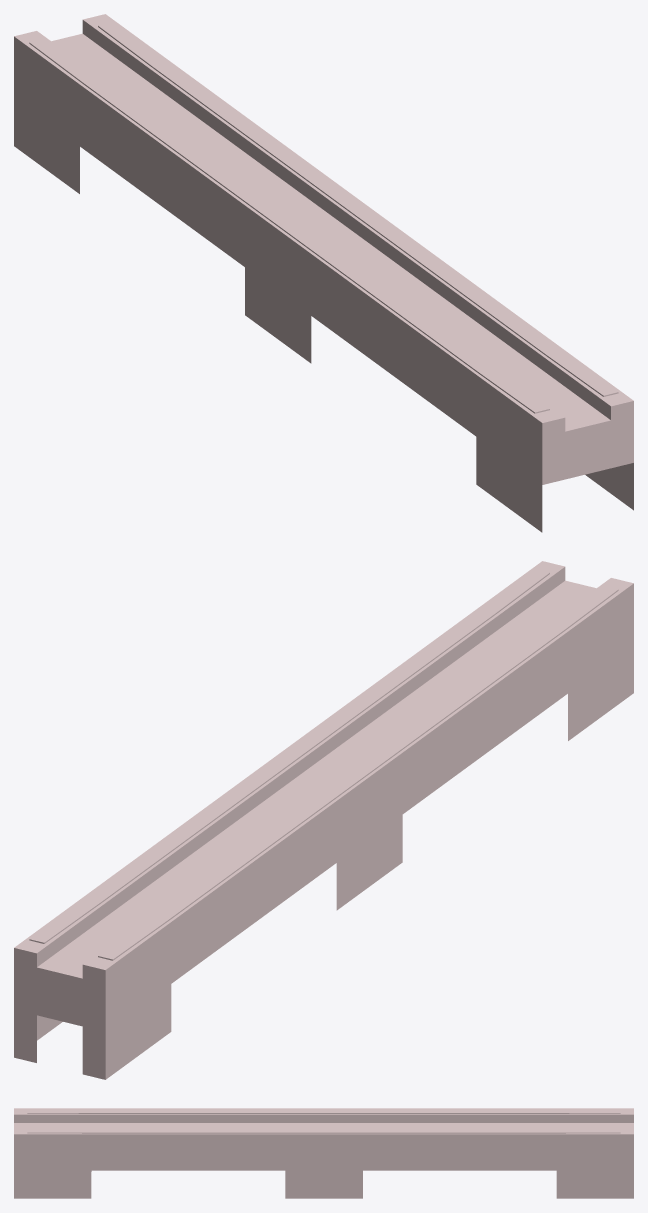
File: Bridge.fbx
The picture shows the model from 3 angles, top to bottom: view 1: azimuth 30°, elevation 25°; view 2: azimuth 150°, elevation 25°; view 3: azimuth 270°, elevation 25°; orthographic projection. The views are drawn at different scales.
Visible parts, largest first — view 1: Quad Sphere; view 2: Quad Sphere; view 3: Quad Sphere.
Boxes of the visible parts, x1=… form: Quad Sphere: x1=14, y1=14, x2=633, y2=532; Quad Sphere: x1=14, y1=561, x2=633, y2=1079; Quad Sphere: x1=14, y1=1108, x2=633, y2=1198.
Bounding box in the file's own units: 200 × 232 × 2000.
